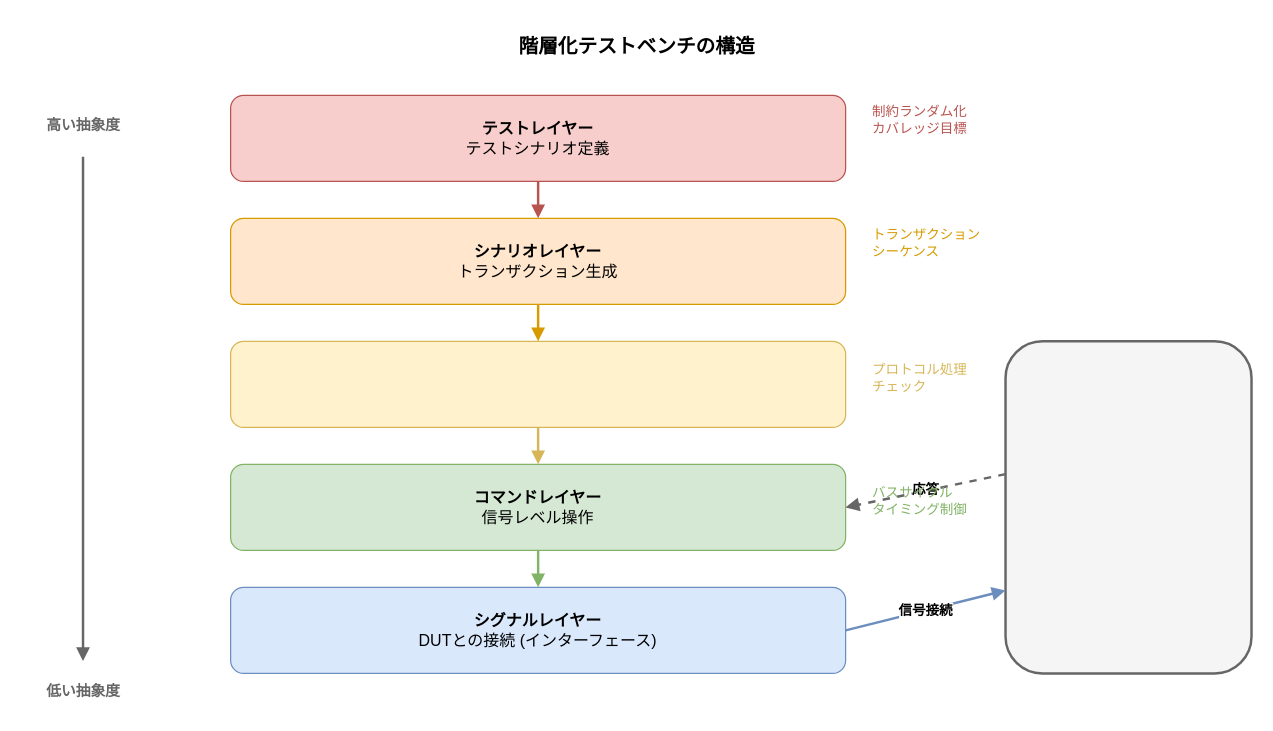
This 1273x731 diagram has some shape labels left out. The shapes that lost their labels are listed below. From the top down, each one's box as (x1, y1, x2, y2) in pixels, then its label:
(229, 340, 846, 427): ファンクショナルレイヤー ドライバ、モニタ、スコアボード
(1004, 339, 1252, 674): DUT (Design Under Test)
